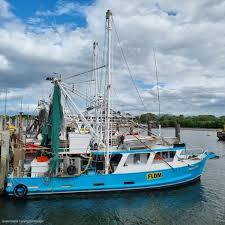Ship: (7, 83, 213, 198)
